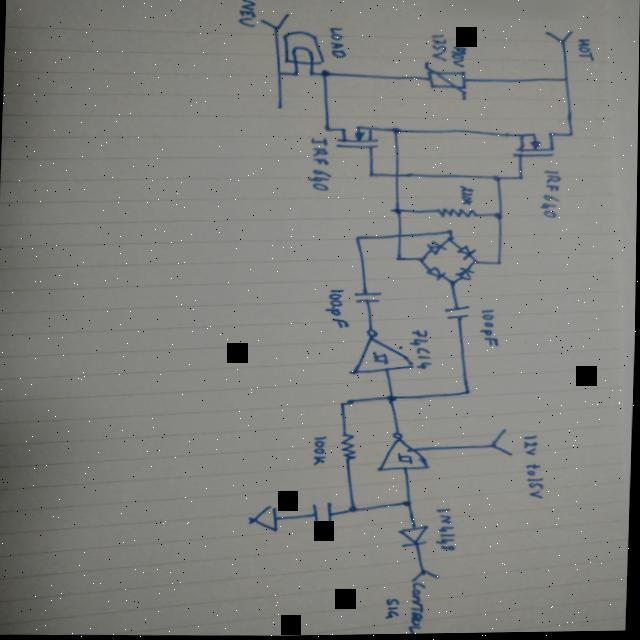capacitor: (310, 501, 337, 527), (353, 288, 385, 306), (443, 303, 472, 322)
crossover: (395, 229, 407, 240), (392, 170, 404, 180)
diode: (398, 522, 432, 552), (457, 244, 477, 260), (427, 240, 448, 254), (427, 266, 447, 280), (456, 266, 475, 280)
ground: (249, 502, 282, 533)
junction: (389, 204, 405, 218), (348, 502, 362, 514), (402, 497, 415, 507), (386, 393, 399, 403), (393, 253, 406, 263), (337, 398, 349, 408), (463, 387, 475, 397), (390, 126, 402, 136), (493, 211, 506, 219), (491, 174, 504, 182), (324, 124, 334, 134), (321, 68, 331, 78), (516, 172, 526, 182), (367, 170, 378, 179), (471, 258, 481, 267), (418, 255, 429, 263), (448, 279, 458, 287), (561, 76, 571, 84), (353, 234, 363, 242), (496, 259, 505, 267), (307, 69, 316, 77), (447, 237, 457, 244), (276, 70, 286, 77), (568, 130, 576, 138), (446, 228, 456, 234), (275, 104, 285, 110), (293, 70, 301, 76)
resistor: (437, 206, 481, 219), (339, 432, 359, 460)
terminal: (491, 428, 516, 457), (260, 11, 290, 30), (545, 28, 575, 46), (413, 568, 443, 582)
text: (523, 435, 546, 499), (308, 137, 333, 191), (538, 169, 564, 219), (325, 287, 353, 330), (436, 506, 461, 552), (409, 581, 429, 634), (409, 329, 434, 369), (480, 308, 501, 346), (328, 24, 349, 59), (311, 433, 331, 466), (238, 0, 259, 29), (430, 33, 449, 60), (385, 595, 404, 620), (576, 38, 595, 62), (450, 45, 468, 68), (459, 185, 475, 205)
transistor: (511, 129, 559, 161), (335, 123, 381, 153)
